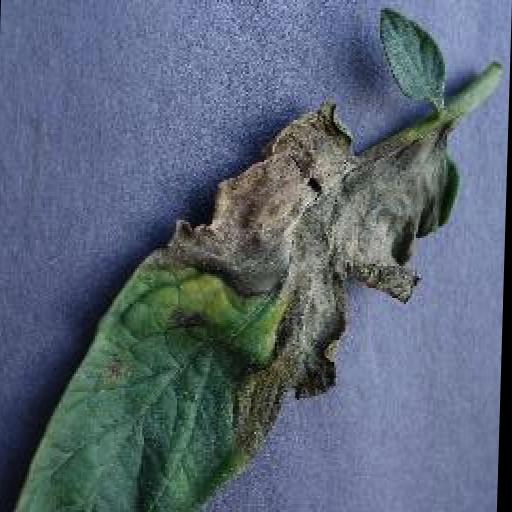Healthy: (373, 8, 449, 102)
Late Blight: (14, 106, 463, 512)
